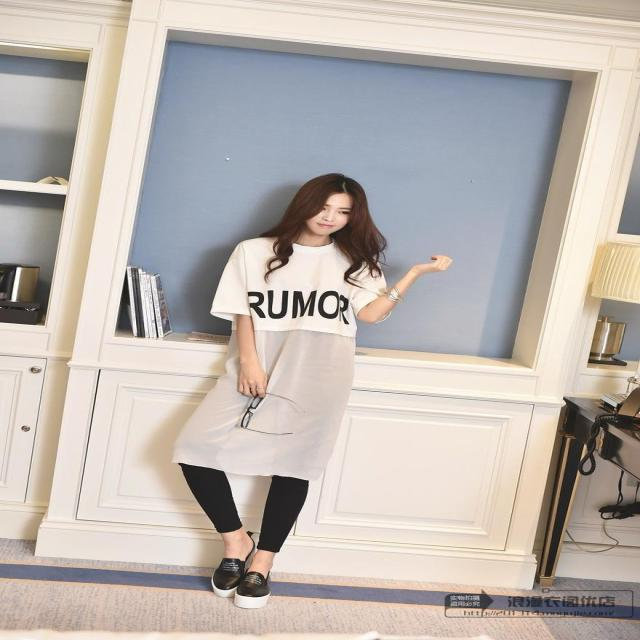short-sleeve-top: (200, 213, 422, 489)
